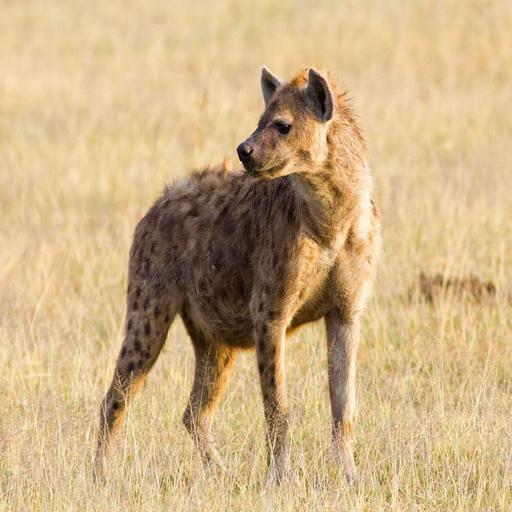Hyena: (85, 62, 389, 502)
